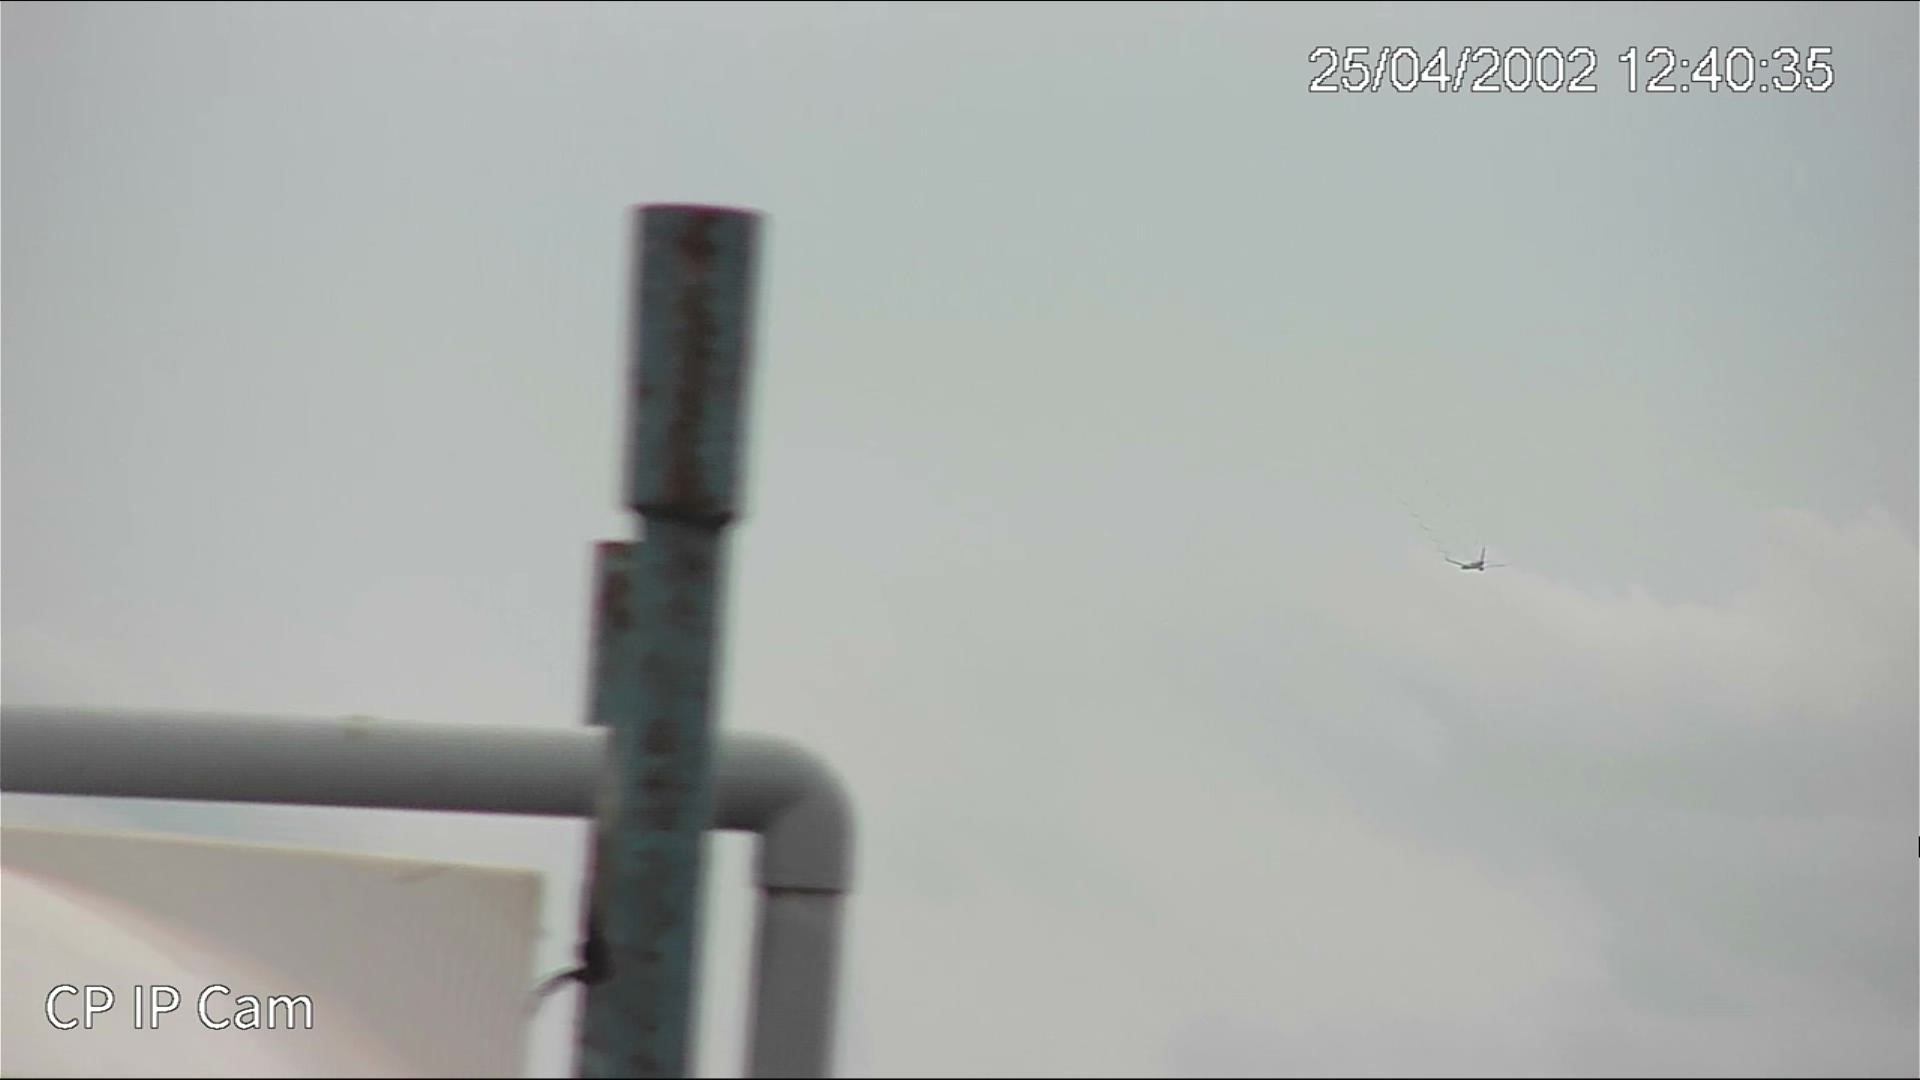SU_30: (1451, 554, 1495, 574)
